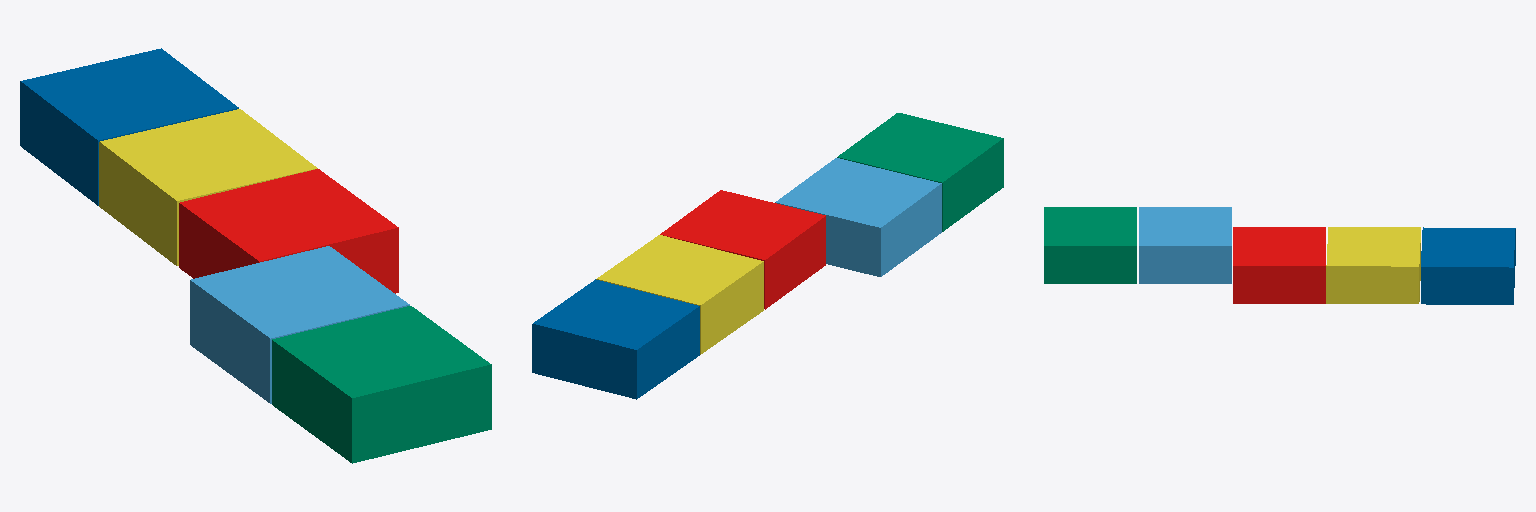
robot.urdf — Model_Models/testPiece.urdf13:
<?xml version='1.0' encoding='UTF-8'?>
<robot name="Model_Models/testPiece.urdf13">
  <link name="base_link">
    <inertial>
      <origin xyz="0.0 0.0 0.0" rpy="0.0 -0.0 0.0"/>
      <mass value="1.0"/>
      <inertia ixx="1.0" ixy="0.0" ixz="0.0" iyy="1.0" iyz="0.0" izz="1.0"/>
    </inertial>
    <visual>
      <geometry>
        <box size="0.67 0.67 0.3 "/>
      </geometry>
      <material name="red"/>
      <origin xyz="0.0 0.0 0.0" rpy="0.0 -0.0 0.0"/>
    </visual>
    <collision>
      <geometry>
        <box size="0.67 0.67 0.3 "/>
      </geometry>
      <origin xyz="0.0 0.0 0.0" rpy="0.0 0.0 0.0"/>
    </collision>
  </link>
  <link name="set1_arm1">
    <inertial>
      <origin xyz="0.0 0.34 0.0" rpy="0.0 0.0 0.0"/>
      <mass value="1.0"/>
      <inertia ixx="0.0" ixy="0.0" ixz="0.0" iyy="0.0" iyz="0.0" izz="0.0"/>
    </inertial>
    <visual>
      <geometry>
        <box size="0.67 0.67 0.3 "/>
      </geometry>
      <origin xyz="0.0 0.34 0.0" rpy="0.0 0.0 0.0"/>
    </visual>
    <collision>
      <geometry>
        <box size="0.67 0.67 0.3 "/>
      </geometry>
      <origin xyz="0.0 0.34 0.0" rpy="0.0 0.0 0.0"/>
    </collision>
  </link>
  <link name="set1_arm2">
    <inertial>
      <origin xyz="0.0 0.34 0.0" rpy="0.0 0.0 0.0"/>
      <mass value="1.0"/>
      <inertia ixx="0.0" ixy="0.0" ixz="0.0" iyy="0.0" iyz="0.0" izz="0.0"/>
    </inertial>
    <visual>
      <geometry>
        <box size="0.67 0.67 0.3 "/>
      </geometry>
      <origin xyz="0.0 0.34 0.0" rpy="0.0 0.0 0.0"/>
    </visual>
    <collision>
      <geometry>
        <box size="0.67 0.67 0.3 "/>
      </geometry>
      <origin xyz="0.0 0.34 0.0" rpy="0.0 0.0 0.0"/>
    </collision>
  </link>
  <link name="arm_Permutation_13_arm1">
    <inertial>
      <origin xyz="0.0 0.34 0.0" rpy="0.0 0.0 0.0"/>
      <mass value="1.0"/>
      <inertia ixx="0.0" ixy="0.0" ixz="0.0" iyy="0.0" iyz="0.0" izz="0.0"/>
    </inertial>
    <visual>
      <geometry>
        <box size="0.67 0.67 0.3 "/>
      </geometry>
      <origin xyz="0.0 0.34 0.0" rpy="0.0 0.0 0.0"/>
    </visual>
    <collision>
      <geometry>
        <box size="0.67 0.67 0.3 "/>
      </geometry>
      <origin xyz="0.0 0.34 0.0" rpy="0.0 0.0 0.0"/>
    </collision>
  </link>
  <link name="arm_Permutation_13_arm2">
    <inertial>
      <origin xyz="0.0 0.34 0.0" rpy="0.0 0.0 0.0"/>
      <mass value="1.0"/>
      <inertia ixx="0.0" ixy="0.0" ixz="0.0" iyy="0.0" iyz="0.0" izz="0.0"/>
    </inertial>
    <visual>
      <geometry>
        <box size="0.67 0.67 0.3 "/>
      </geometry>
      <origin xyz="0.0 0.34 0.0" rpy="0.0 0.0 0.0"/>
    </visual>
    <collision>
      <geometry>
        <box size="0.67 0.67 0.3 "/>
      </geometry>
      <origin xyz="0.0 0.34 0.0" rpy="0.0 0.0 0.0"/>
    </collision>
  </link>
  <joint name="set1_jointBase" type="fixed">
    <limit effort="1.57" velocity="1.57" lower="-1.57" upper="1.57"/>
    <parent link="base_link"/>
    <child link="set1_arm1"/>
    <axis xyz="1. 0. 0."/>
    <origin xyz="-0.34 -0.34 0.0" rpy="0.0 0.0 -3.1414337214449355"/>
  </joint>
  <joint name="set1_joint1" type="revolute">
    <limit effort="1.57" velocity="1.57" lower="-1.57" upper="1.57"/>
    <parent link="set1_arm1"/>
    <child link="set1_arm2"/>
    <axis xyz="1. 0. 0."/>
    <origin xyz="0.0 0.68 0.0" rpy="0.0 0.0 0.0"/>
  </joint>
  <joint name="arm_Permutation_13_jointBase" type="fixed">
    <limit effort="1.57" velocity="1.57" lower="-1.57" upper="1.57"/>
    <parent link="base_link"/>
    <child link="arm_Permutation_13_arm1"/>
    <axis xyz="1. 0. 0."/>
    <origin xyz="0.0 0.34 0.0" rpy="0.0 0.0 -0.02"/>
  </joint>
  <joint name="arm_Permutation_13_joint1" type="revolute">
    <limit effort="1.57" velocity="1.57" lower="-1.57" upper="1.57"/>
    <parent link="arm_Permutation_13_arm1"/>
    <child link="arm_Permutation_13_arm2"/>
    <axis xyz="1. 0. 0."/>
    <origin xyz="0.0 0.68 0.0" rpy="0.0 0.0 0.0"/>
  </joint>
  <material name="red">
    <color rgba="0.969 0.129 0.122 1.   "/>
  </material>
</robot>

--- Render facts (derived) ---
Views: 3 orthographic renders of the robot side by side, from view 1: azimuth 30°, elevation 25°; view 2: azimuth 150°, elevation 25°; view 3: azimuth 270°, elevation 25°.
Robot: Model_Models/testPiece.urdf13 — 5 links, 4 joints (2 revolute, 2 fixed); root link base_link; default pose: all joints at 0.
Links seen in each view (by area): view 1: set1_arm2, base_link, set1_arm1, arm_Permutation_13_arm1, arm_Permutation_13_arm2; view 2: arm_Permutation_13_arm2, set1_arm1, arm_Permutation_13_arm1, base_link, set1_arm2; view 3: arm_Permutation_13_arm1, arm_Permutation_13_arm2, base_link, set1_arm1, set1_arm2.
Boxes of the visible links, x1=… form: set1_arm2: x1=272, y1=306, x2=491, y2=463; base_link: x1=179, y1=169, x2=398, y2=293; set1_arm1: x1=190, y1=246, x2=409, y2=403; arm_Permutation_13_arm1: x1=99, y1=109, x2=317, y2=265; arm_Permutation_13_arm2: x1=20, y1=48, x2=238, y2=205; arm_Permutation_13_arm2: x1=532, y1=279, x2=699, y2=399; set1_arm1: x1=775, y1=158, x2=941, y2=276; arm_Permutation_13_arm1: x1=596, y1=235, x2=763, y2=354; base_link: x1=660, y1=190, x2=825, y2=309; set1_arm2: x1=837, y1=113, x2=1003, y2=231; arm_Permutation_13_arm1: x1=1326, y1=227, x2=1420, y2=303; arm_Permutation_13_arm2: x1=1421, y1=227, x2=1515, y2=304; base_link: x1=1233, y1=227, x2=1325, y2=303; set1_arm1: x1=1139, y1=207, x2=1231, y2=283; set1_arm2: x1=1044, y1=207, x2=1136, y2=283.
Size in the robot's own frame: 1.04 by 3.4 by 0.3 metres.
Geometry: primitives only (box / cylinder / sphere), no mesh files.